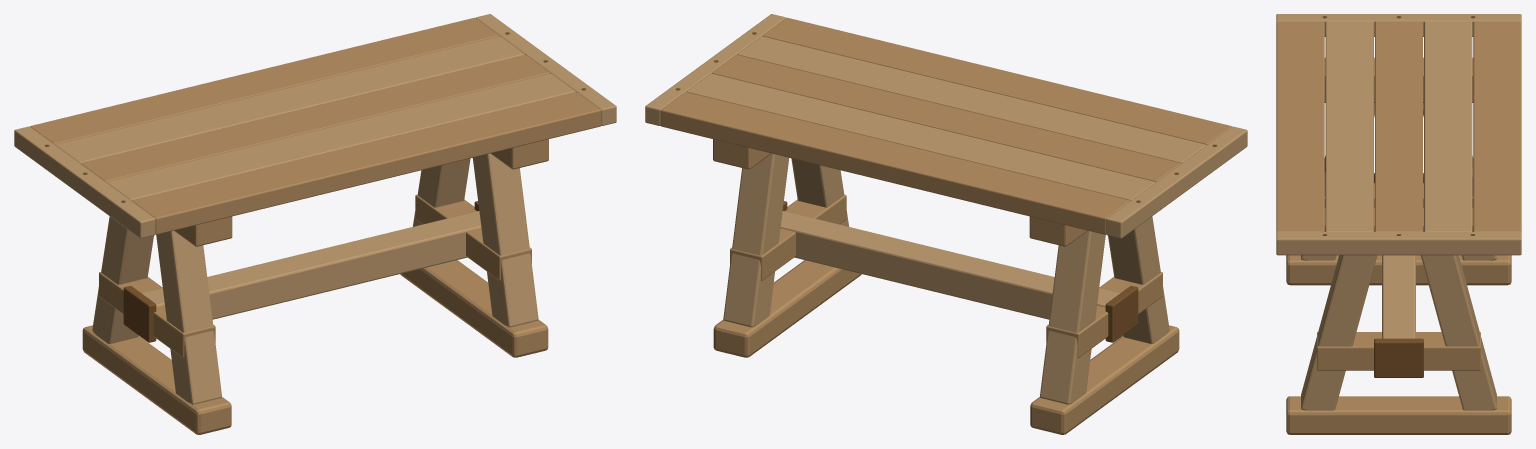
The model's file is table_farmhouse_trestle.glb.
3 views of the same model, side by side, from view 1: azimuth 30°, elevation 25°; view 2: azimuth 150°, elevation 25°; view 3: azimuth 270°, elevation 25° (orthographic). The views are drawn at different scales.
Visible parts, largest first — view 1: Wide oak tabletop plank, Long central stretcher, Wide oak tabletop plank.001, Wide oak tabletop plank.003, Wide oak tabletop plank.002, Wide oak tabletop plank.004, Angled trestle upright, Angled trestle upright.002, Trestle foot, Trestle foot.001, Breadboard table end, Angled trestle upright.001 (+7 smaller); view 2: Wide oak tabletop plank.004, Long central stretcher, Wide oak tabletop plank.003, Wide oak tabletop plank.001, Wide oak tabletop plank, Wide oak tabletop plank.002, Angled trestle upright.001, Angled trestle upright.003, Trestle foot, Trestle foot.001, Breadboard table end, Angled trestle upright (+7 smaller); view 3: Wide oak tabletop plank, Wide oak tabletop plank.001, Wide oak tabletop plank.003, Wide oak tabletop plank.004, Wide oak tabletop plank.002, Trestle foot.001, Breadboard table end.001, Angled trestle upright.002, Angled trestle upright.003, Trestle lower crossbar.001, Trestle foot, Long central stretcher (+5 smaller).
Part boxes in pixels (<box>): Wide oak tabletop plank: <box>132,92,601,234</box>; Long central stretcher: <box>141,211,481,319</box>; Wide oak tabletop plank.001: <box>106,73,575,200</box>; Wide oak tabletop plank.003: <box>55,36,524,163</box>; Wide oak tabletop plank.002: <box>81,55,550,181</box>; Wide oak tabletop plank.004: <box>30,17,499,144</box>; Angled trestle upright: <box>156,230,221,404</box>; Angled trestle upright.002: <box>472,153,538,327</box>; Trestle foot: <box>82,325,231,434</box>; Trestle foot.001: <box>400,260,548,357</box>; Breadboard table end: <box>14,126,155,238</box>; Angled trestle upright.001: <box>92,216,153,343</box>; Wide oak tabletop plank.004: <box>660,92,1129,234</box>; Long central stretcher: <box>780,211,1120,319</box>; Wide oak tabletop plank.003: <box>686,73,1155,200</box>; Wide oak tabletop plank.001: <box>737,36,1206,163</box>; Wide oak tabletop plank: <box>762,17,1231,144</box>; Wide oak tabletop plank.002: <box>711,55,1180,181</box>; Angled trestle upright.001: <box>1040,230,1105,404</box>; Angled trestle upright.003: <box>723,153,789,327</box>; Trestle foot: <box>1030,325,1179,434</box>; Trestle foot.001: <box>713,260,861,357</box>; Breadboard table end: <box>1106,126,1247,238</box>; Angled trestle upright: <box>1108,216,1169,343</box>; Wide oak tabletop plank: <box>1276,21,1324,232</box>; Wide oak tabletop plank.001: <box>1325,21,1373,231</box>; Wide oak tabletop plank.003: <box>1424,21,1472,231</box>; Wide oak tabletop plank.004: <box>1473,21,1521,232</box>; Wide oak tabletop plank.002: <box>1375,21,1422,231</box>; Trestle foot.001: <box>1286,396,1511,434</box>; Breadboard table end.001: <box>1276,232,1521,255</box>; Angled trestle upright.002: <box>1301,255,1377,410</box>; Angled trestle upright.003: <box>1420,255,1496,410</box>; Trestle lower crossbar.001: <box>1317,332,1480,370</box>; Trestle foot: <box>1286,255,1511,285</box>; Long central stretcher: <box>1382,255,1415,338</box>.
Bounding box in the file's own units: 1.66 × 0.7785 × 0.762.
